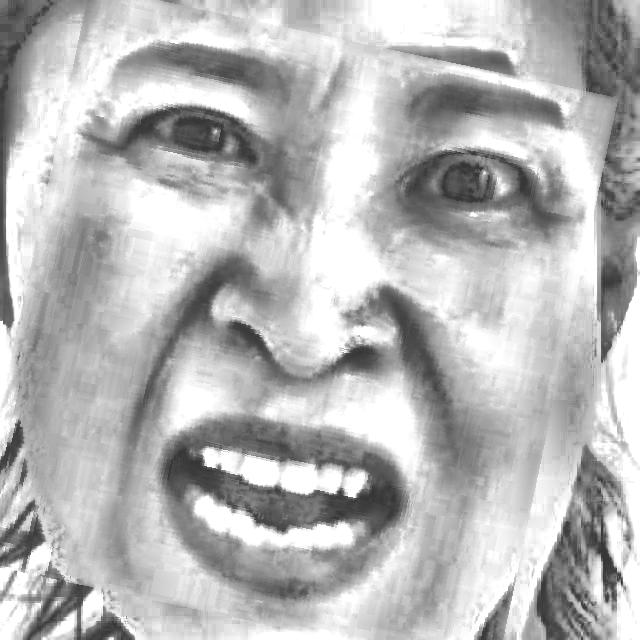angry: (0, 10, 590, 640)
